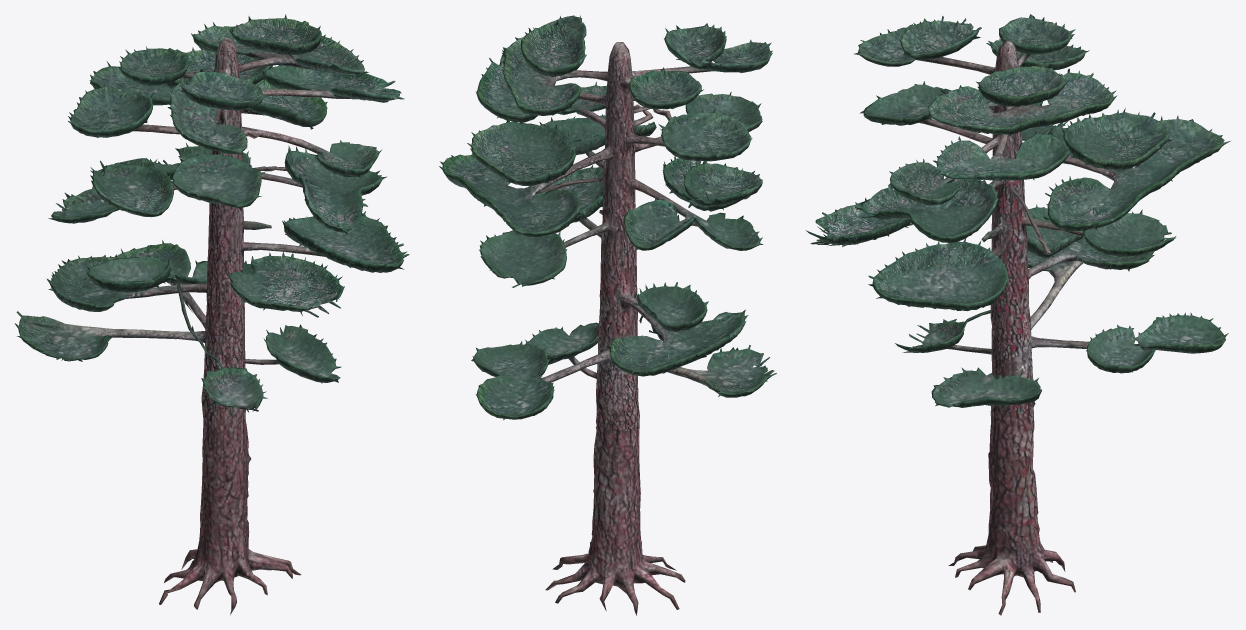
File: pine_tall.glb
3 renders of one model, left to right at view 1: azimuth 30°, elevation 25°; view 2: azimuth 150°, elevation 25°; view 3: azimuth 270°, elevation 25°, orthographic. The views are drawn at different scales.
Parts seen in each view (by area): view 1: tripo_node_d5c151a4-0429-41d9-8240-1dfca240ee28; view 2: tripo_node_d5c151a4-0429-41d9-8240-1dfca240ee28; view 3: tripo_node_d5c151a4-0429-41d9-8240-1dfca240ee28.
Part boxes in pixels (bbox=[...]): tripo_node_d5c151a4-0429-41d9-8240-1dfca240ee28: bbox=[14, 14, 409, 615]; tripo_node_d5c151a4-0429-41d9-8240-1dfca240ee28: bbox=[439, 15, 776, 615]; tripo_node_d5c151a4-0429-41d9-8240-1dfca240ee28: bbox=[805, 14, 1230, 615].
Size of the model in its own units: 0.6094 by 1 by 0.7102.
1 material, 1 textured.
